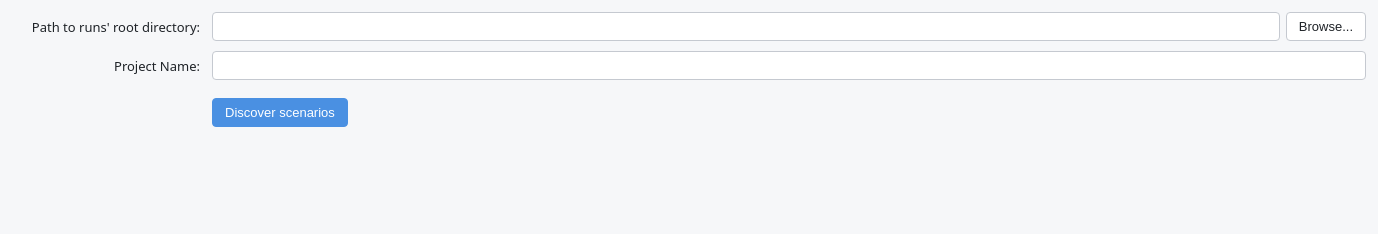
ChartsForm progressive UI › disables Create Charts when every scenario is unchecked
Type "C:/runs" into the field labelled "Path to runs' root directory:" at (746, 26), box [212,12,1280,41]
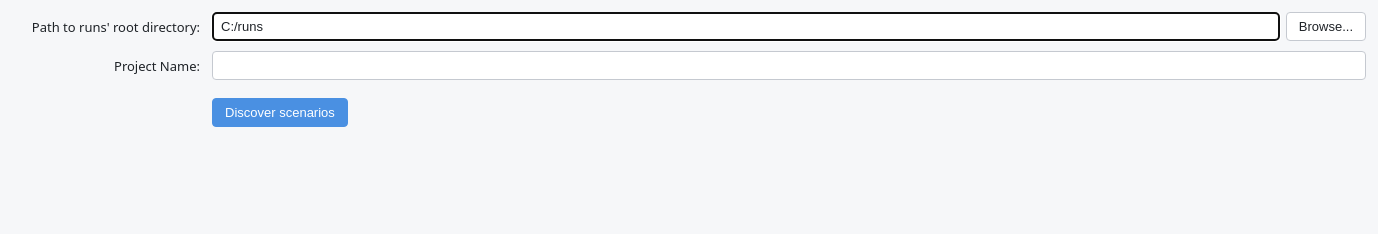
Type "Test" into the field labelled "Project Name:" at (789, 66), box [212,51,1366,80]
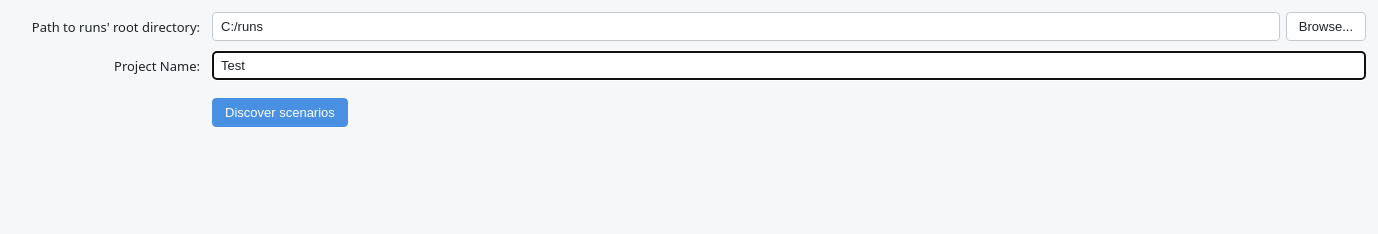
Click the button "Discover scenarios" at (280, 112), box [212,98,348,127]
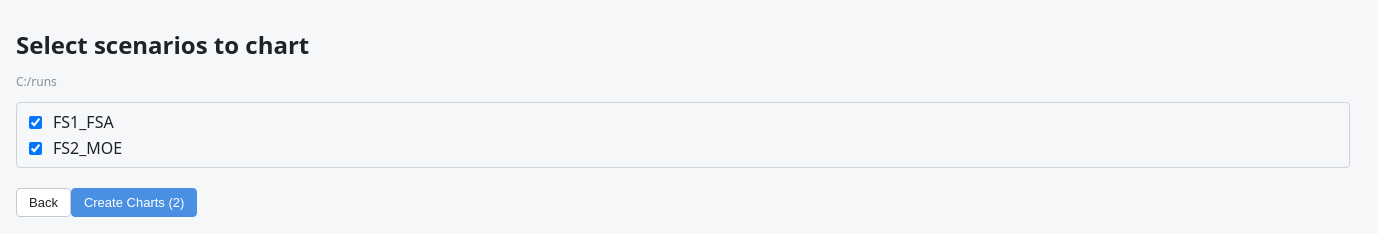
Expected: the number of checkboxes is 2
Click the checkbox labelled "FS1_FSA" at (36, 122), box [29,116,42,128]
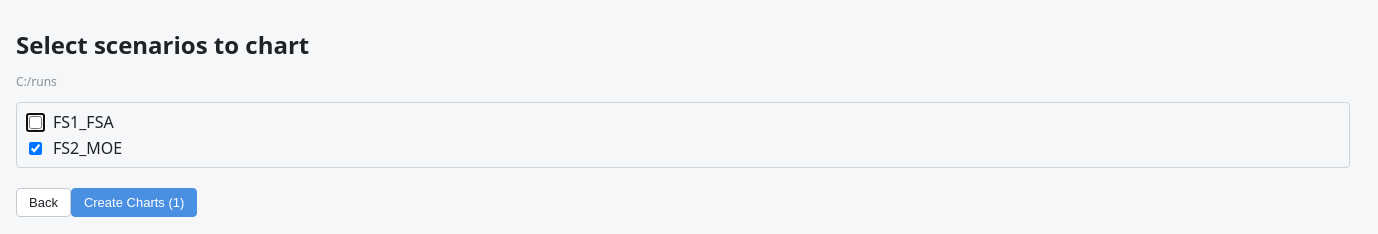
Click the checkbox labelled "FS2_MOE" at (36, 148), box [29,142,42,154]
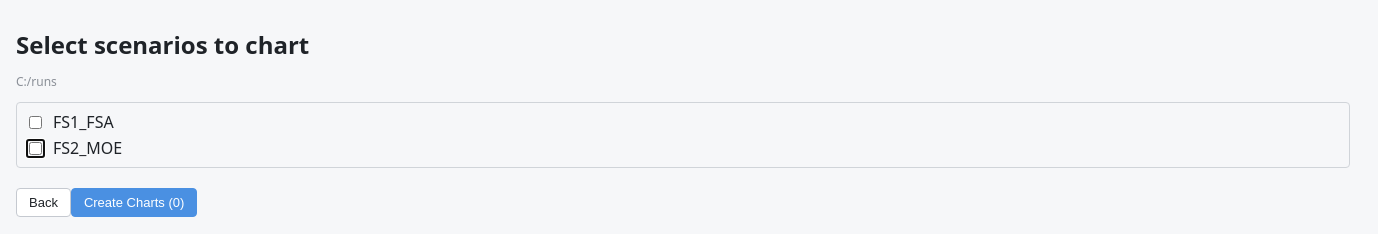
Expected: the button "Create Charts (0)" is disabled, [71,188,197,217]
Expected: the button "Create Charts (0)" is shown, [71,188,197,217]
